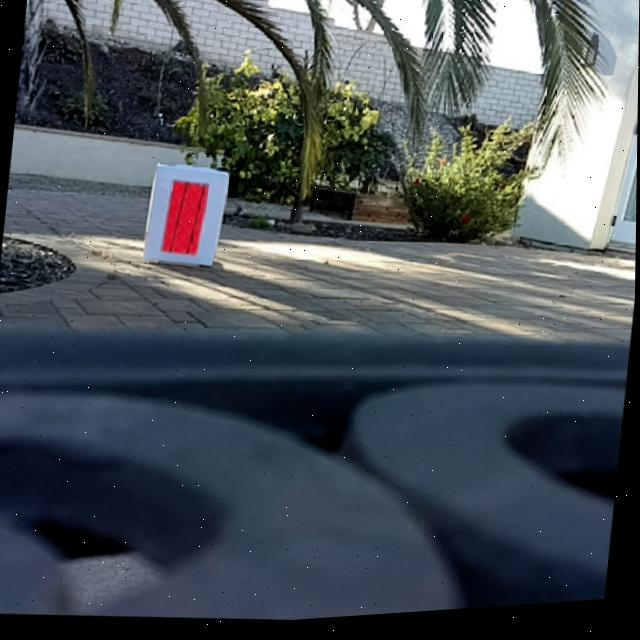led: (161, 179, 211, 262)
